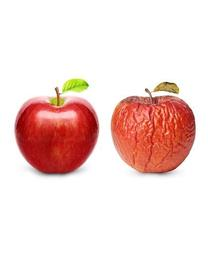apple: (110, 82, 196, 173), (13, 86, 98, 173)
